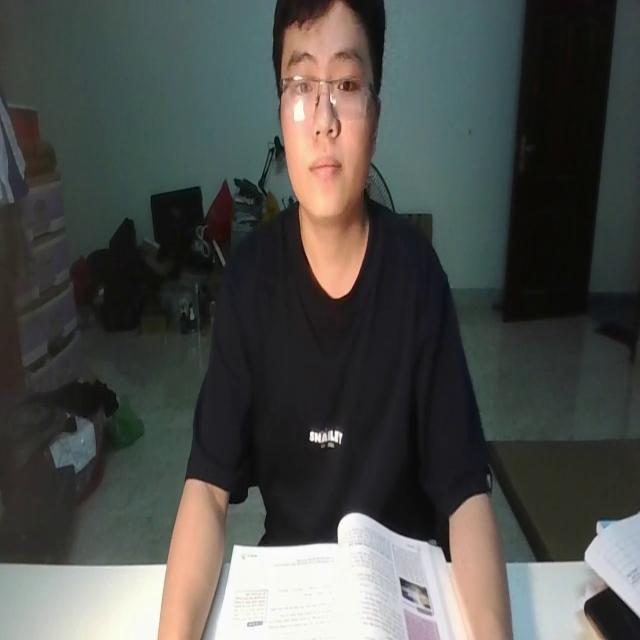book: (218, 510, 464, 640)
student: (153, 0, 511, 640)
